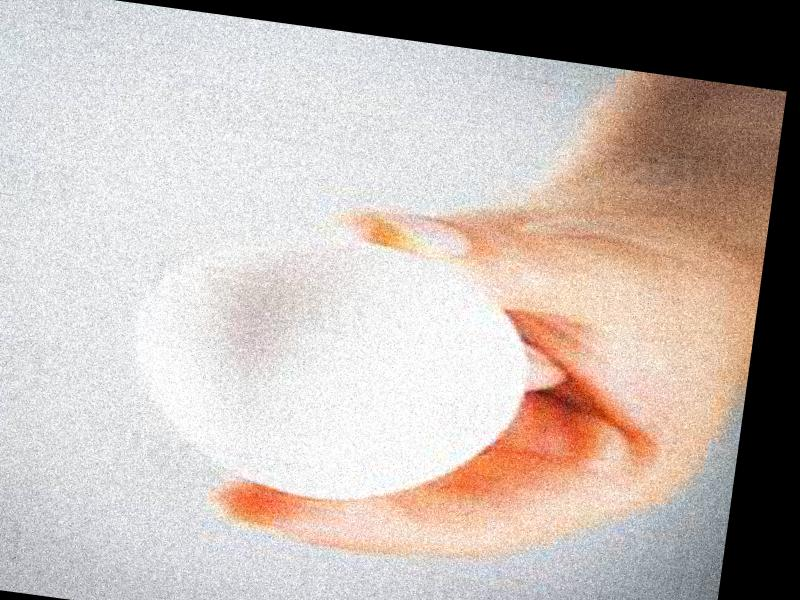Eggs: (122, 214, 525, 524)
